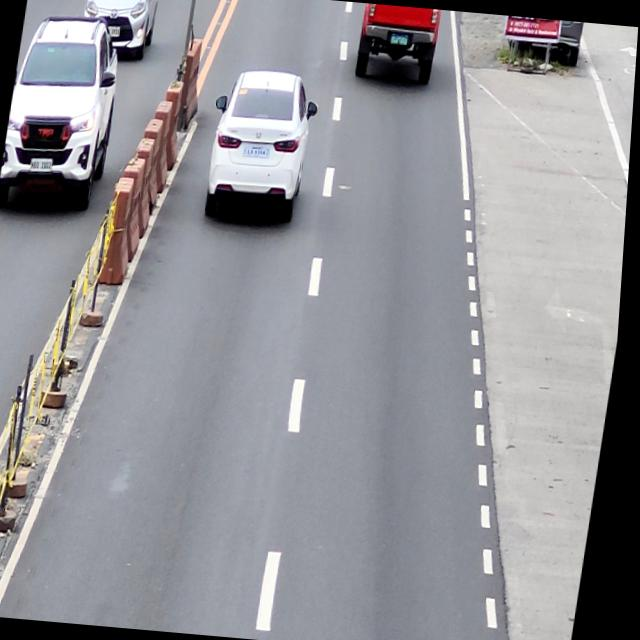Car: (199, 69, 323, 231), (351, 3, 442, 90)
License-Plate: (241, 143, 274, 161), (390, 32, 409, 46)
